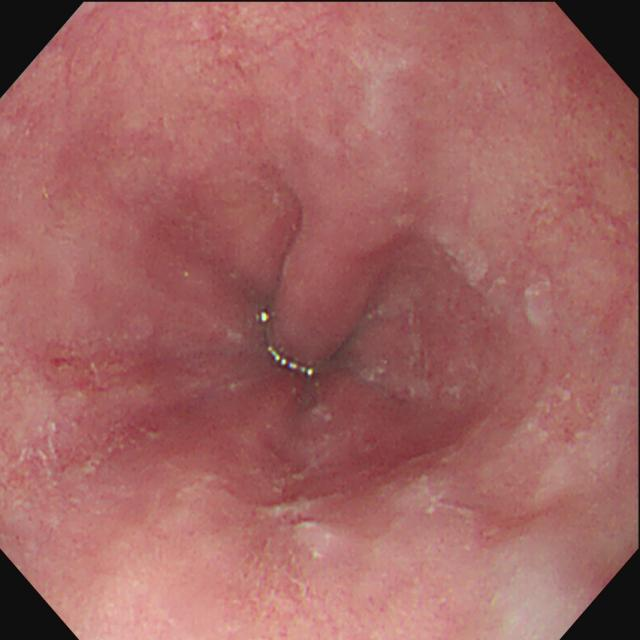I: (139, 125, 496, 510)
J: (360, 294, 432, 398), (429, 224, 513, 299), (507, 373, 573, 451), (521, 267, 558, 333)
U: (267, 348, 313, 377), (256, 313, 270, 326)
